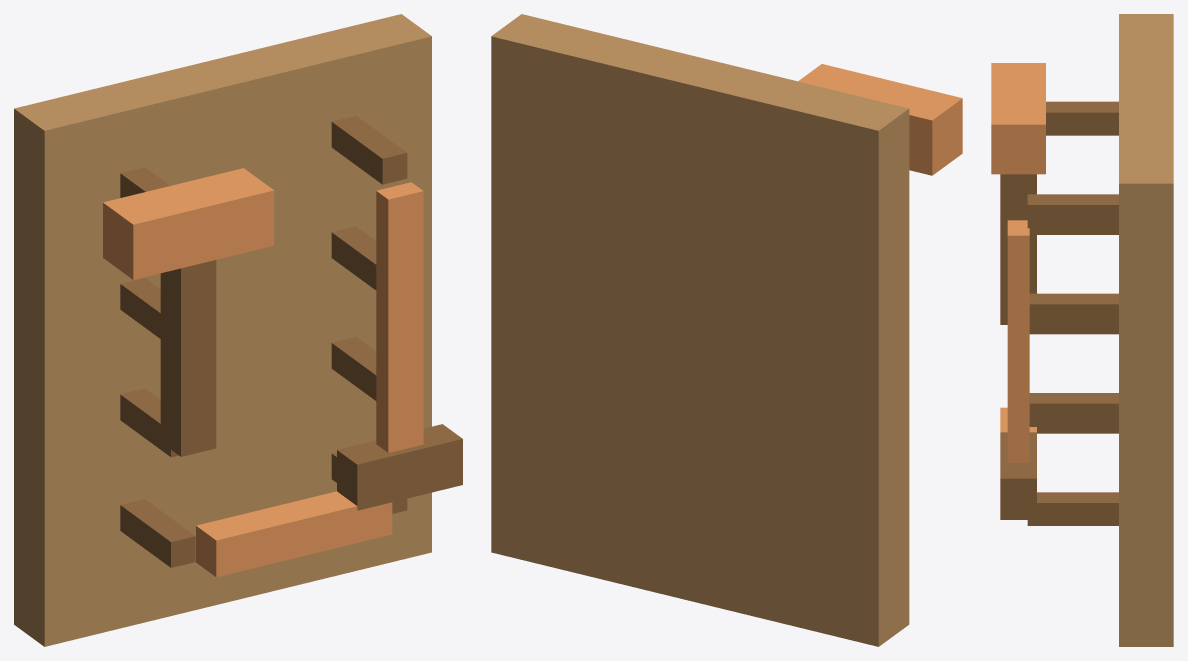
The model's file is tool_rack.glb.
3 renders of one model, left to right at view 1: azimuth 30°, elevation 25°; view 2: azimuth 150°, elevation 25°; view 3: azimuth 270°, elevation 25°, orthographic. The views are drawn at different scales.
Parts seen in each view (by area): view 1: tool_rack; view 2: tool_rack; view 3: tool_rack.
Part boxes in pixels (left/top/right/bottom): tool_rack: left=14, top=14, right=462, bottom=646; tool_rack: left=491, top=14, right=962, bottom=646; tool_rack: left=991, top=14, right=1173, bottom=646.
Size of the model in its own units: 22 by 28 by 10.
